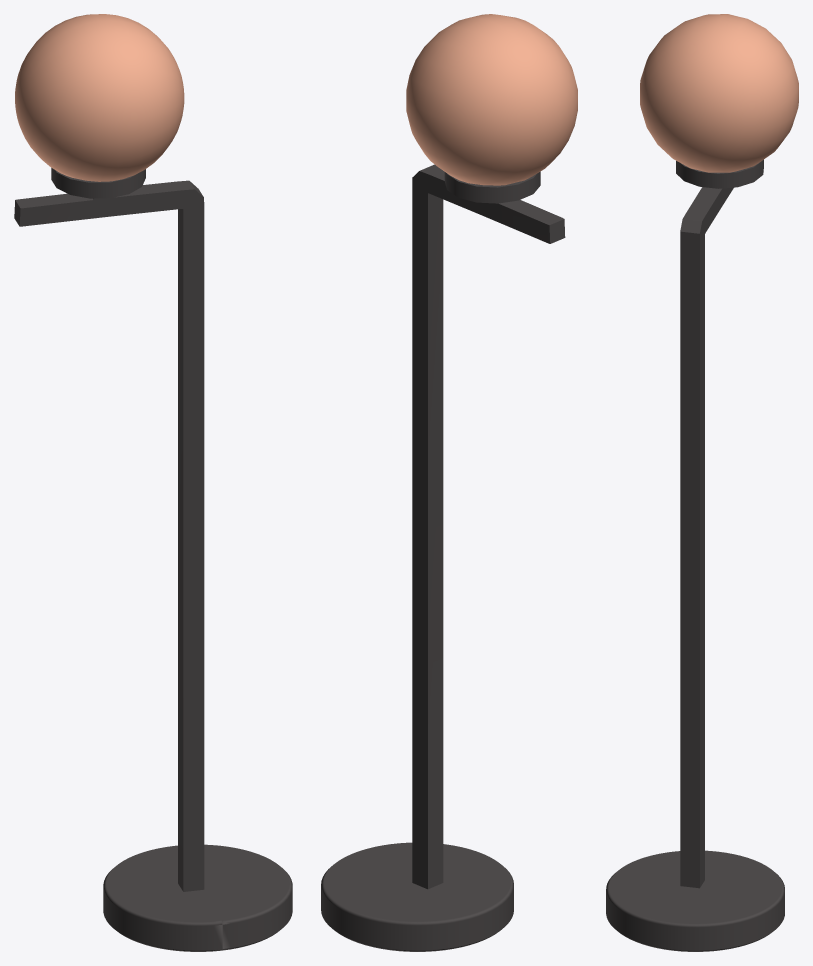
The model's file is bubble-lamp-transformed.glb.
3 views of the same model, side by side, from view 1: azimuth 30°, elevation 25°; view 2: azimuth 150°, elevation 25°; view 3: azimuth 270°, elevation 25° (orthographic). The views are drawn at different scales.
Parts seen in each view (by area): view 1: Cube 5.007, Sphere.001, Cylinder.008, Cylinder 2.004; view 2: Cube 5.007, Sphere.001, Cylinder.008, Cylinder 2.004; view 3: Sphere.001, Cube 5.007, Cylinder.008, Cylinder 2.004.
Part boxes in pixels (x1,y1,x2,y2): Cube 5.007: (14, 180, 204, 891); Sphere.001: (15, 14, 184, 181); Cylinder.008: (103, 844, 292, 951); Cylinder 2.004: (51, 168, 145, 198); Cube 5.007: (412, 164, 565, 889); Sphere.001: (406, 14, 577, 185); Cylinder.008: (321, 842, 513, 951); Cylinder 2.004: (444, 171, 540, 203); Sphere.001: (640, 14, 798, 172); Cube 5.007: (680, 187, 733, 888); Cylinder.008: (606, 850, 784, 951); Cylinder 2.004: (676, 159, 763, 188).
Bounding box in the file's own units: 0.5015 × 1.78 × 0.3635.
